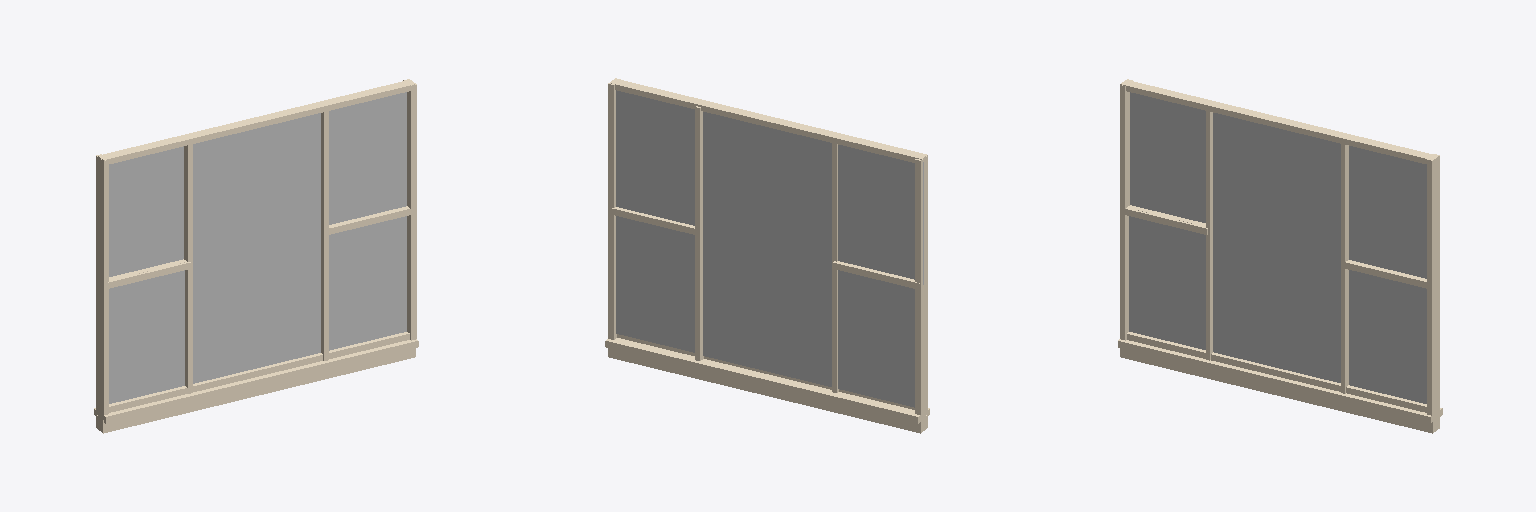
The model's file is fenetre1.obj.
3 renders of one model, left to right at view 1: azimuth 30°, elevation 25°; view 2: azimuth 150°, elevation 25°; view 3: azimuth 330°, elevation 25°, orthographic.
Parts seen in each view (by area): view 1: sweethome3d_window_pane_10, sweethome3d_window_pane_4_14, sweethome3d_window_pane_3_12, sweethome3d_window_pane_2_13, sweethome3d_window_pane_1_11, Cube_2_2, Cube_6_5, Cube_5_15, Cube_6_2_16, Cube_4_4, Cube_6_1_6, Cube_1_1 (+3 smaller); view 2: sweethome3d_window_pane_10, sweethome3d_window_pane_4_14, sweethome3d_window_pane_3_12, sweethome3d_window_pane_2_13, sweethome3d_window_pane_1_11, Cube_5_15, Cube_2_2, Cube_6_5, Cube_6_2_16, Cube_6_1_6, Cube_3_3, Cube_1_1 (+3 smaller); view 3: sweethome3d_window_pane_10, sweethome3d_window_pane_4_14, sweethome3d_window_pane_3_12, sweethome3d_window_pane_2_13, sweethome3d_window_pane_1_11, Cube_2_2, Cube_6_1_6, Cube_5_15, Cube_6_2_16, Cube_4_4, Cube_6_5, Cube_3_3 (+3 smaller).
Boxes of the visible parts, x1=… form: sweethome3d_window_pane_10: x1=193, y1=113, x2=320, y2=383; sweethome3d_window_pane_4_14: x1=329, y1=216, x2=406, y2=350; sweethome3d_window_pane_3_12: x1=329, y1=92, x2=406, y2=224; sweethome3d_window_pane_2_13: x1=109, y1=270, x2=184, y2=403; sweethome3d_window_pane_1_11: x1=109, y1=146, x2=183, y2=276; Cube_2_2: x1=98, y1=80, x2=414, y2=163; Cube_6_5: x1=96, y1=154, x2=108, y2=417; Cube_5_15: x1=94, y1=339, x2=418, y2=423; Cube_6_2_16: x1=96, y1=348, x2=415, y2=433; Cube_4_4: x1=100, y1=332, x2=409, y2=414; Cube_6_1_6: x1=403, y1=79, x2=416, y2=340; Cube_1_1: x1=184, y1=144, x2=192, y2=393; sweethome3d_window_pane_10: x1=703, y1=112, x2=831, y2=386; sweethome3d_window_pane_4_14: x1=616, y1=216, x2=694, y2=352; sweethome3d_window_pane_3_12: x1=616, y1=90, x2=694, y2=225; sweethome3d_window_pane_2_13: x1=838, y1=270, x2=914, y2=407; sweethome3d_window_pane_1_11: x1=838, y1=145, x2=923, y2=284; Cube_5_15: x1=605, y1=338, x2=929, y2=423; Cube_2_2: x1=611, y1=79, x2=927, y2=162; Cube_6_5: x1=915, y1=156, x2=927, y2=416; Cube_6_2_16: x1=608, y1=348, x2=927, y2=433; Cube_6_1_6: x1=608, y1=78, x2=620, y2=339; Cube_3_3: x1=695, y1=106, x2=703, y2=360; Cube_1_1: x1=832, y1=143, x2=838, y2=392; sweethome3d_window_pane_10: x1=1213, y1=113, x2=1340, y2=382; sweethome3d_window_pane_4_14: x1=1349, y1=270, x2=1426, y2=403; sweethome3d_window_pane_3_12: x1=1349, y1=146, x2=1426, y2=278; sweethome3d_window_pane_2_13: x1=1129, y1=216, x2=1205, y2=349; sweethome3d_window_pane_1_11: x1=1130, y1=92, x2=1205, y2=222; Cube_2_2: x1=1120, y1=80, x2=1436, y2=163; Cube_6_1_6: x1=1427, y1=154, x2=1439, y2=416; Cube_5_15: x1=1118, y1=339, x2=1442, y2=423; Cube_6_2_16: x1=1120, y1=348, x2=1439, y2=433; Cube_4_4: x1=1127, y1=332, x2=1426, y2=412; Cube_6_5: x1=1120, y1=79, x2=1132, y2=340; Cube_3_3: x1=1341, y1=144, x2=1348, y2=393.
Bounding box in the file's own units: 183 × 152 × 12.06.